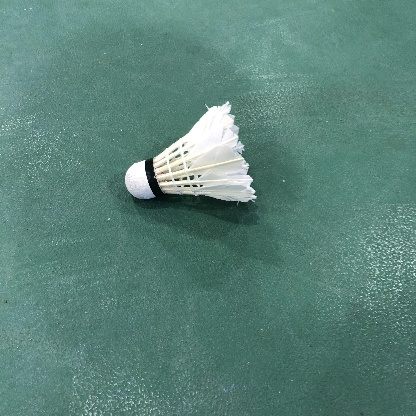ball_single: (125, 100, 257, 202)
